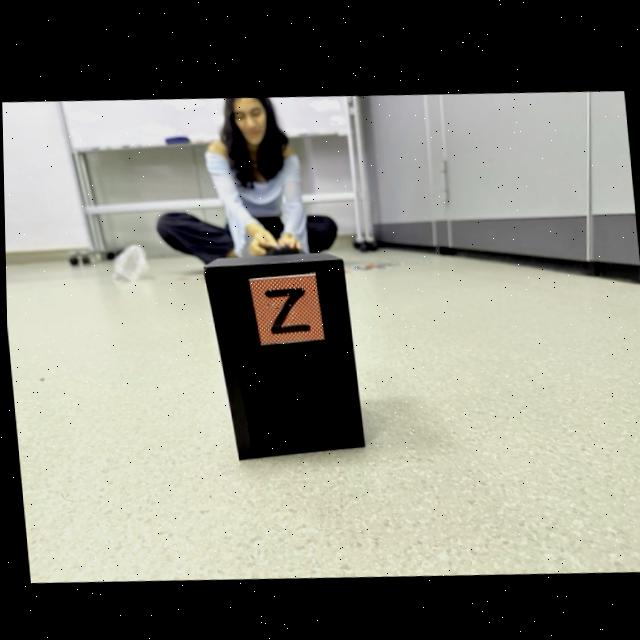Z: (263, 285, 310, 331)
